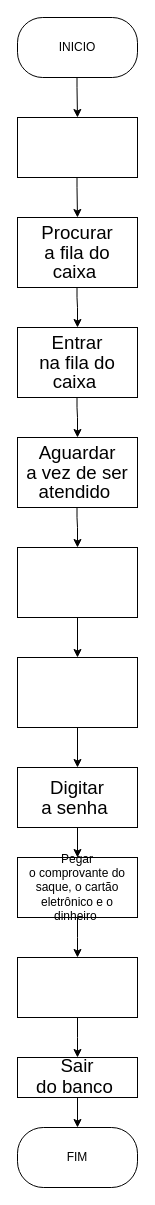
Some shapes in this 155 by 1205 pixel diagram are drawn without their labels. Here are the shapes that lost their labels. From the top down, the centre of each, then its label:
At (77,147): "Entrar no banco".
At (77,582): "Informar o valor a ser retirado".
At (77,692): "Entregar o cartão eletrônico ao funcionário que atende o caixa".
At (77,987): "Conferir o valor em dinheiro".
